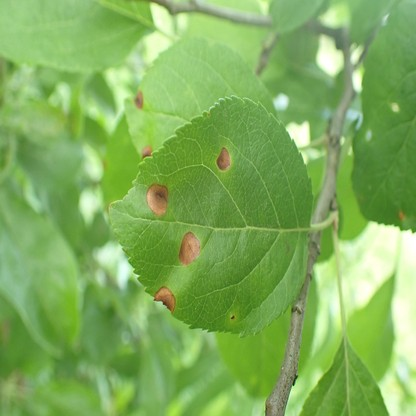frogeye_leaf_spot: (146, 184, 169, 215), (179, 231, 199, 265), (153, 286, 177, 313), (215, 146, 231, 170), (135, 89, 144, 110), (141, 146, 152, 159)
